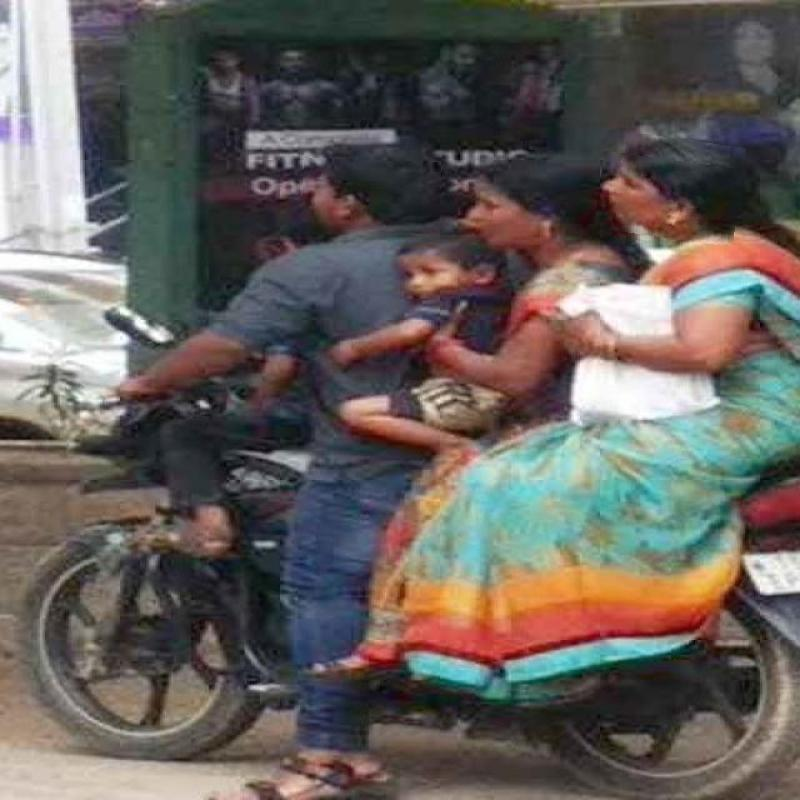nohelmet: (597, 134, 743, 242), (303, 150, 442, 234)
